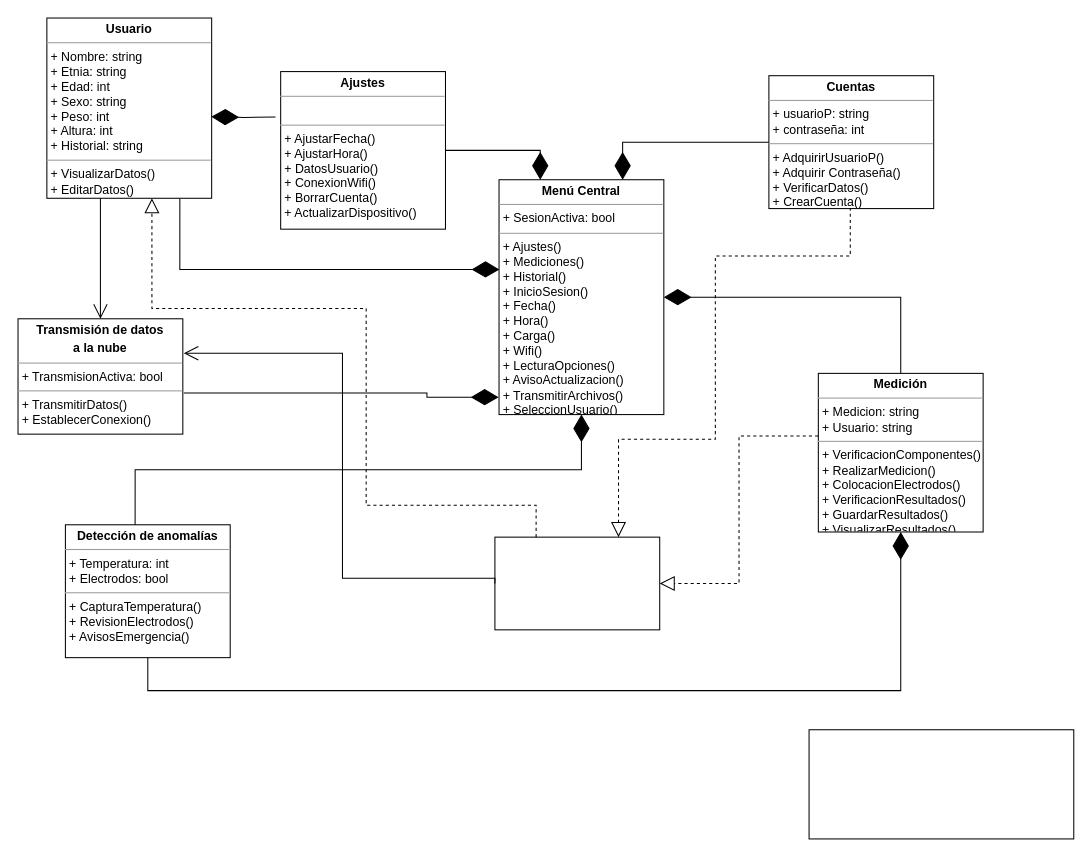
This 1092x857 diagram has some shape labels left out. Here are the shapes that lost their labels. From the top down, the centre of each, then its label:
At [577,583]: "Historial + Historial: string + VisualizarHistorial() + AgregarRevision()".
At [941,784]: "Ahorro de energía a donde lo pongo Seleccion de usuario donde?".
